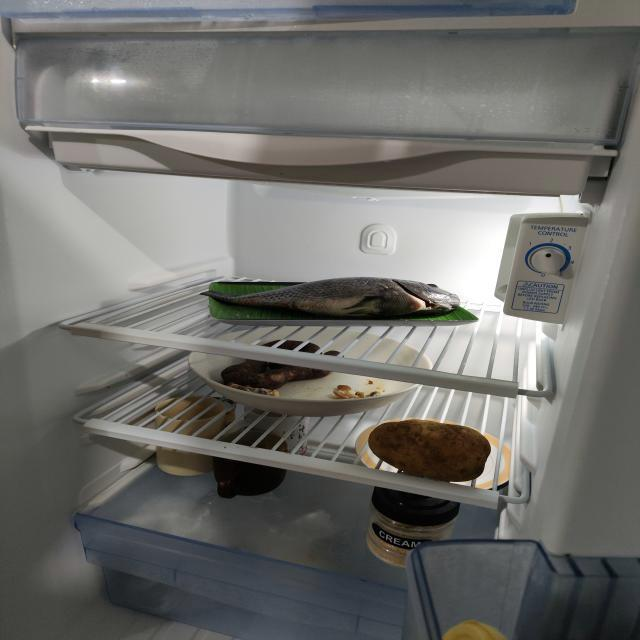fish: (203, 273, 465, 324)
potato: (365, 418, 490, 486)
